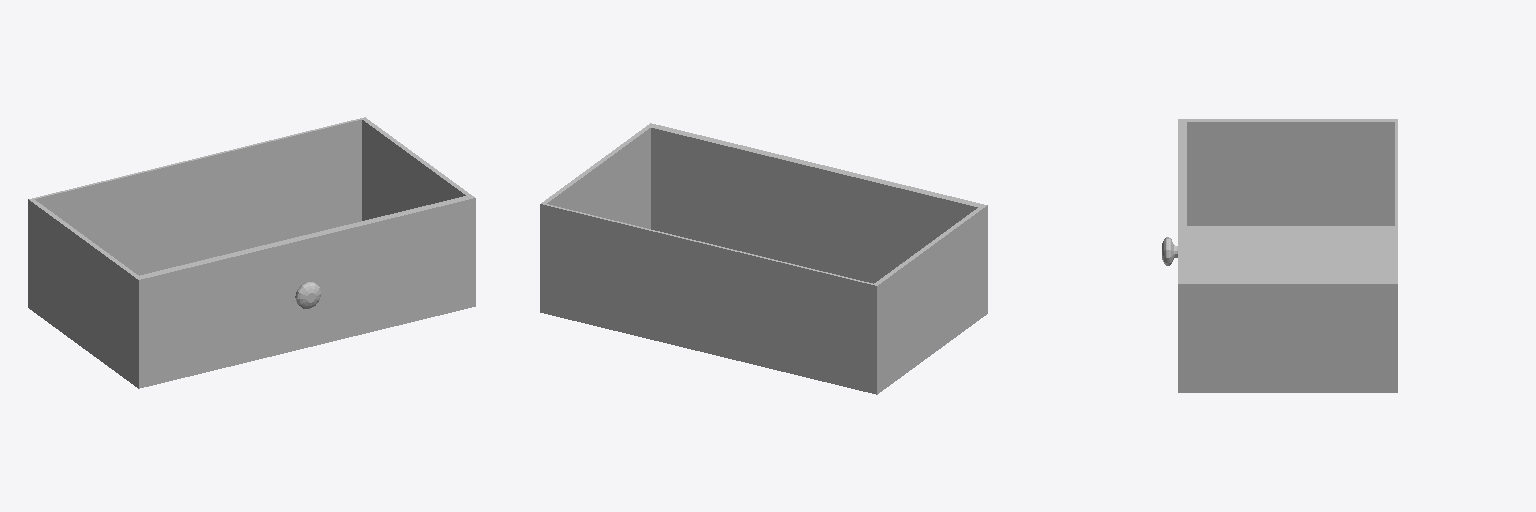
The model's file is DrawerTopLeft.obj.
3 views of the same model, side by side, from view 1: azimuth 30°, elevation 25°; view 2: azimuth 150°, elevation 25°; view 3: azimuth 270°, elevation 25° (orthographic).
Parts seen in each view (by area): view 1: Plane_007; view 2: Plane_007; view 3: Plane_007.
Boxes of the visible parts, box(x1,y1,x2,y2) form: Plane_007: box(28, 117, 475, 388); Plane_007: box(540, 123, 987, 394); Plane_007: box(1162, 119, 1397, 392).
Size of the model in its own units: 0.5776 by 0.1782 by 0.3519.